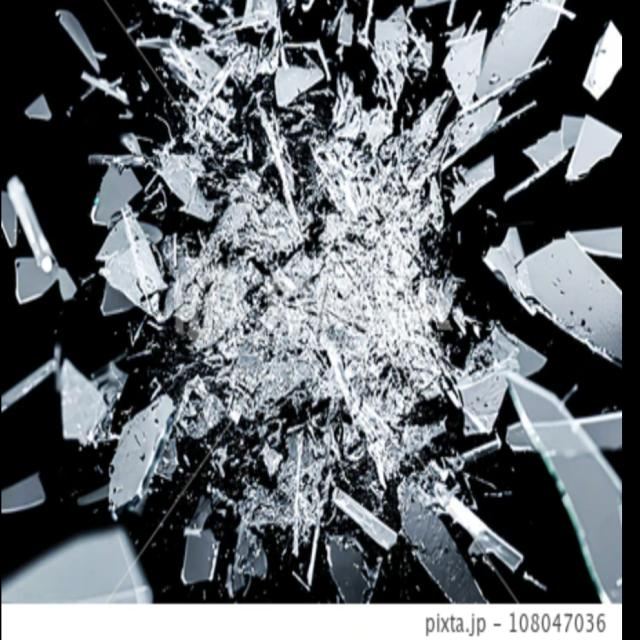PecahanKaca: (0, 0, 623, 602)
